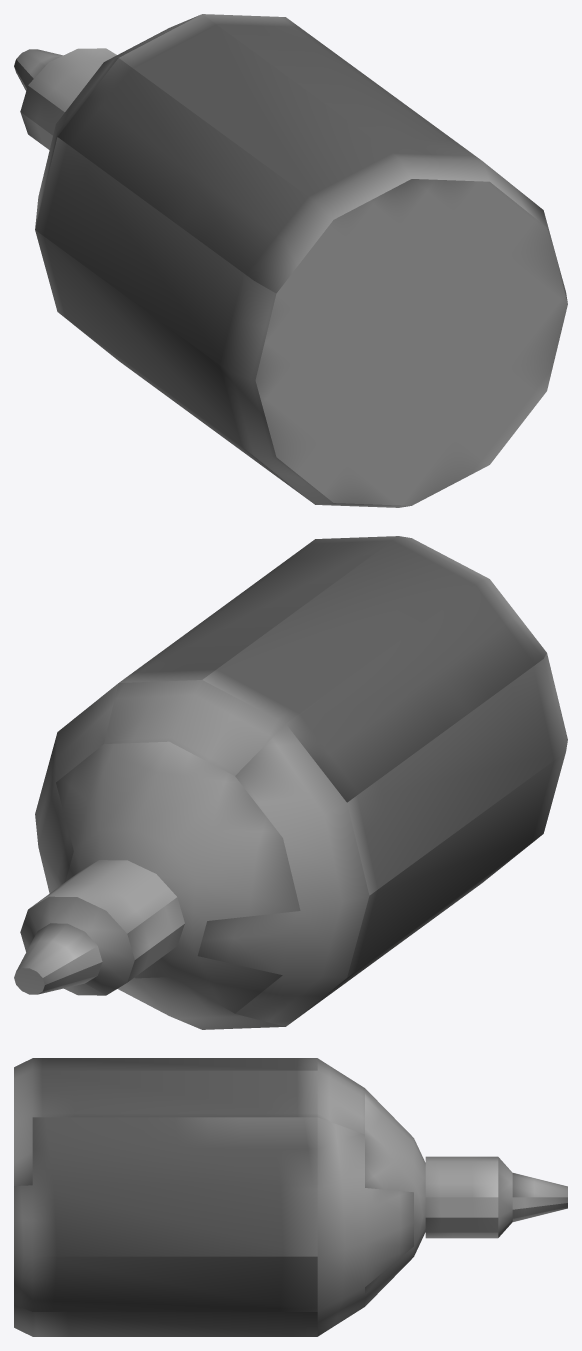
The model's file is Bottle.fbx.
The picture shows the model from 3 angles, top to bottom: view 1: azimuth 30°, elevation 25°; view 2: azimuth 150°, elevation 25°; view 3: azimuth 270°, elevation 25°; orthographic projection. The views are drawn at different scales.
Visible parts, largest first — view 1: Bottle; view 2: Bottle; view 3: Bottle.
Boxes of the visible parts, box(x1,y1,x2,y2) form: Bottle: box(14, 14, 567, 507); Bottle: box(14, 536, 567, 1029); Bottle: box(14, 1058, 567, 1336).
Bounding box in the file's own units: 24.95 × 24.95 × 49.4.
